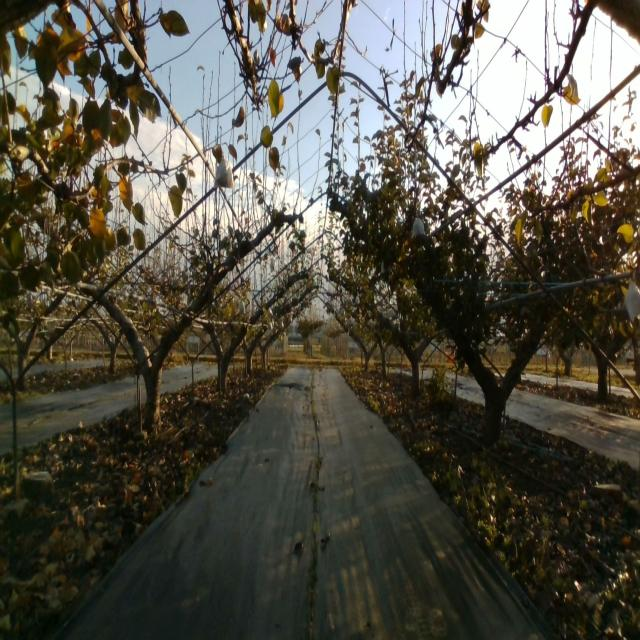pearbags: (213, 154, 234, 189), (623, 282, 640, 324), (411, 217, 425, 240)
